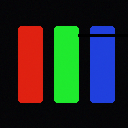3 line_h: (78, 34, 127, 36)
